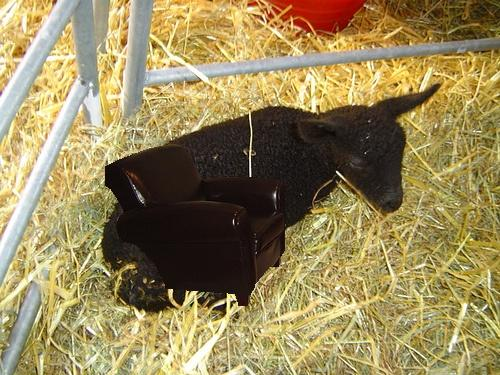tampered: (106, 145, 285, 306)
